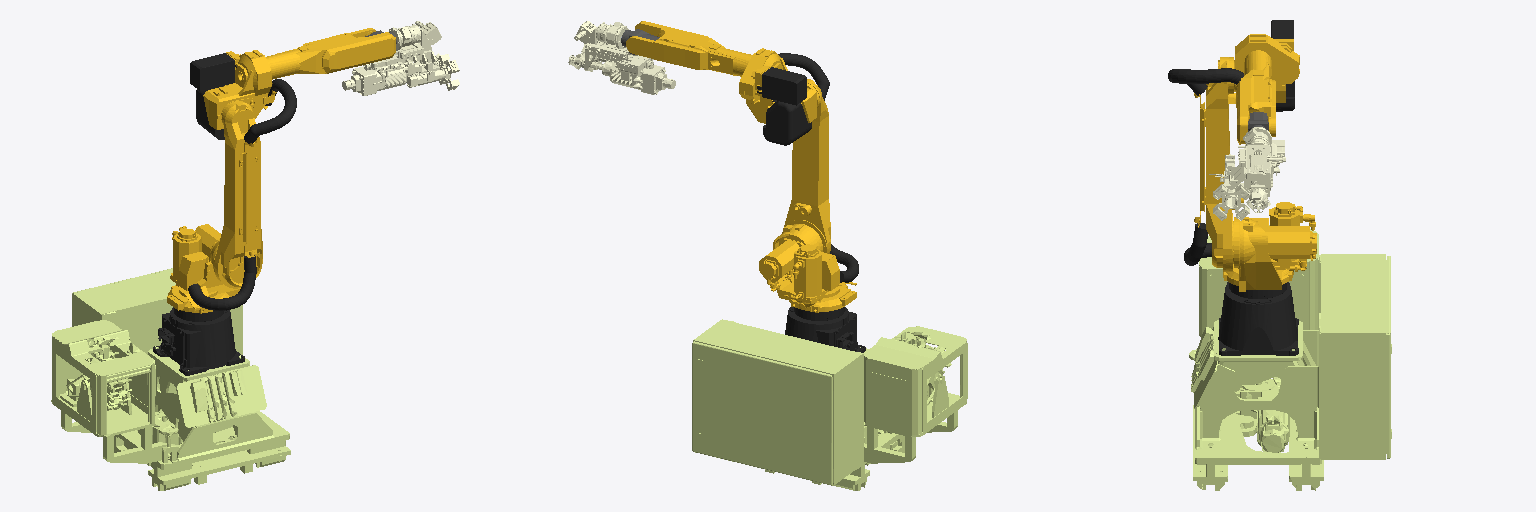
URDF robot description (fanuc_m20ia_35m):
<?xml version="1.0" ?>
<robot name="fanuc_m20ia_35m">
    <!--World link represents the world origin-->
    <link name="world" />
    <!--Sliding base-->
    <link name="slider">
        <visual>
            <origin xyz="0 -0.138929 -0.156011" rpy="3.14159265359 -1.57079632679 0" />
            <geometry>
                <mesh filename="package://acg_resources_fanuc_m20ia_35m_description/meshes/visual/slide.dae" />
            </geometry>
        </visual>
        <inertial>
            <inertia ixx="5.44696" ixy="0.41618" ixz="0.42316" iyy="4.52204" iyz="1.14567" izz="3.50858"/>
            <origin rpy="0.00000 0.00000 0.00000" xyz="0.38559 -0.12582 -0.14714"/>
            <mass value="40.00000"/>
        </inertial>
        <collision>
            <origin xyz="0 -0.138929 -0.156011" rpy="3.14159265359 -1.57079632679 0" />
            <geometry>
                <mesh filename="package://acg_resources_fanuc_m20ia_35m_description/meshes/collision/slide_alt.stl" />
            </geometry>
        </collision>
    </link>
    <joint name="fanuc_m20ia_35m_world_to_silder" type="prismatic">
        <origin xyz="0 0 0" rpy="3.14159265359 -1.57079632679 0" />
        <parent link="world" />
        <child link="slider" />
        <axis xyz="0 0 1" />
        <dynamics damping="12.6" friction="1.8"/>
        <limit effort="3500" velocity="9.6" lower="-2.1" upper="2.1" /><axis xyz="0 0 1" /> 
    </joint>
    <joint name="fanuc_m20ia_35m_slider_to_link_0" type="fixed">
        <origin xyz="0.555985 0 0" rpy="3.14159265359 -1.57079632679 0" />
        <parent link="slider" />
        <child link="fanuc_m20ia_35m_link_0" />
    </joint>
    <!--Fanuc M20IA/35M-->
    <link name="fanuc_m20ia_35m_link_0">
        <visual>
            <origin xyz="0 0 0" rpy="0 0 0" />
            <geometry>
                <mesh filename="package://acg_resources_fanuc_m20ia_35m_description/meshes/visual/link_0.dae" />
            </geometry>
        </visual>
        <inertial>
            <inertia ixx="0.81917" ixy="0.11076" ixz="-0.15612" iyy="1.46533" iyz="0.02762" izz="1.37957"/>
            <origin rpy="0.00000 0.00000 0.00000" xyz="-0.01251 0.00295 0.13601"/>
            <mass value="55.00000"/>
        </inertial>
        <collision>
            <origin xyz="0 0 0" rpy="0 0 0" />
            <geometry>
                <mesh filename="package://acg_resources_fanuc_m20ia_35m_description/meshes/collision/link_0.stl" />
            </geometry>
        </collision>
    </link>
    <link name="fanuc_m20ia_35m_link_1">
        <visual>
            <origin xyz="0 0 0" rpy="0 0 0" />
            <geometry>
                <mesh filename="package://acg_resources_fanuc_m20ia_35m_description/meshes/visual/link_1.dae" />
            </geometry>
        </visual>
        <inertial>
            <inertia ixx="1.94274" ixy="-0.00021" ixz="-0.20819" iyy="1.01606" iyz="-0.20086" izz="2.07922"/>
            <origin rpy="0.00000 0.00000 0.00000" xyz="0.05707 0.00452 0.44717"/>
            <mass value="76.00000"/>
        </inertial>
        <collision>
            <origin xyz="0 0 0" rpy="0 0 0" />
            <geometry>
                <mesh filename="package://acg_resources_fanuc_m20ia_35m_description/meshes/collision/link_1.stl" />
            </geometry>
        </collision>
    </link>
    <joint name="fanuc_m20ia_35m_joint_1" type="revolute">
        <origin xyz="0 0 0" rpy="0 0 0" />
        <parent link="fanuc_m20ia_35m_link_0" />
        <child link="fanuc_m20ia_35m_link_1" />
        <axis xyz="0 0 1" />
        <dynamics damping="7.11" friction="1.2"/>
        <limit effort="2500" velocity="3.14" lower="-3.228859" upper="3.228859" />
    </joint>
    <link name="fanuc_m20ia_35m_link_2">
        <visual>
            <origin xyz="-0.150 -0.525 0" rpy="-1.57079632679 0 0" />
            <geometry> <!--- -0.150 0 -0.525    x=-1.57079632679-->
                <mesh filename="package://acg_resources_fanuc_m20ia_35m_description/meshes/visual/link_2.dae" />
            </geometry>
        </visual>
        <inertial>
            <inertia ixx="2.43002" ixy="0.00148" ixz="0.00311" iyy="0.13838" iyz="-0.02449" izz="2.42037"/>
            <origin rpy="0.00000 0.00000 0.00000" xyz="0.00001 0.33455 0.17707"/>
            <mass value="31.90000"/>
        </inertial>
        <collision>
            <origin xyz="-0.150 -0.525 0" rpy="-1.57079632679 0 0" />
            <geometry>
                <mesh filename="package://acg_resources_fanuc_m20ia_35m_description/meshes/collision/link_2.stl" />
            </geometry>
        </collision>
    </link>
    <joint name="fanuc_m20ia_35m_joint_2" type="revolute">
        <origin xyz="0.150 0 0.525" rpy="1.57079632679 0 0" />
        <parent link="fanuc_m20ia_35m_link_1" />
        <child link="fanuc_m20ia_35m_link_2" />
        <axis xyz="0 0 -1" />
        <dynamics damping="7.11" friction="1.2"/>
        <limit effort="2500" velocity="3.14" lower="-1.745329" upper="2.792527" />
    </joint>
    <link name="fanuc_m20ia_35m_link_3">
        <visual>
            <origin xyz="-1.315 0.150 0" rpy="-1.57079632679 0 -1.57079632679" /> <!-- 1.57079632679 -1.57079632679 -->
            <geometry>
                <mesh filename="package://acg_resources_fanuc_m20ia_35m_description/meshes/visual/link_3.dae" />
            </geometry>
        </visual>
        <inertial>
            <inertia ixx="0.97807" ixy="0.09333" ixz="0.00172" iyy="1.00014" iyz="0.17372" izz="0.82790"/>
            <origin rpy="0.00000 0.00000 0.00000" xyz="0.05077 -0.05726 -0.02988"/>
            <mass value="52.00000"/>
        </inertial>
        <collision>
            <origin xyz="-1.315 0.150 0" rpy="-1.57079632679 0 -1.57079632679" /> 
            <geometry>
                <mesh filename="package://acg_resources_fanuc_m20ia_35m_description/meshes/collision/link_3.stl" />
            </geometry>
        </collision>
    </link>
    <joint name="fanuc_m20ia_35m_joint_3" type="revolute">
        <origin xyz="0 0.790 0" rpy="0 0 1.57079632679" />
        <parent link="fanuc_m20ia_35m_link_2" />
        <child link="fanuc_m20ia_35m_link_3" />
        <axis xyz="0 0 1" />
        <dynamics damping="4.778" friction="0.8"/>
        <limit effort="2000" velocity="3.49" lower="-3.228859" upper="4.766494" />
    </joint>
    <link name="fanuc_m20ia_35m_link_4">
        <visual>
            <origin xyz="-1.456 0 -0.150" rpy="3.14159265359 -1.57079632679 0" />
            <geometry>
                <mesh filename="package://acg_resources_fanuc_m20ia_35m_description/meshes/visual/link_4.dae" />
            </geometry>
        </visual>
        <inertial>
            <inertia ixx="1.14714" ixy="0.00333" ixz="0.01779" iyy="1.11650" iyz="-0.07292" izz="0.08602"/>
            <origin rpy="0.00000 0.00000 0.00000" xyz="0.00918 0.00056 0.55457"/>
            <mass value="27.40000"/>
        </inertial>
        <collision>
            <origin xyz="-1.456 0 -0.150" rpy="3.14159265359 -1.57079632679 0" />
            <geometry>
                <mesh filename="package://acg_resources_fanuc_m20ia_35m_description/meshes/collision/link_4.stl" />
            </geometry>
        </collision>
    </link>
    <joint name="fanuc_m20ia_35m_joint_4" type="revolute">
        <origin xyz="0.150 0 0" rpy="1.57079632679 0 0" />
        <parent link="fanuc_m20ia_35m_link_3" />
        <child link="fanuc_m20ia_35m_link_4" />
        <axis xyz="0 0 -1" />
        <dynamics damping="2.6696" friction="0.8"/>
        <limit effort="110" velocity="6.11" lower="-3.490659" upper="3.490659" />
    </joint>
    <link name="fanuc_m20ia_35m_link_5">
        <visual>
            <origin xyz="-1.465 1.010 0" rpy="-1.57079632679 0 -1.57079632679" />
            <geometry>
                <mesh filename="package://acg_resources_fanuc_m20ia_35m_description/meshes/visual/link_5.dae" />
            </geometry>
        </visual>
        <inertial>
            <inertia ixx="0.05943" ixy="0.00359" ixz="-0.00004" iyy="0.01101" iyz="0.00036" izz="0.06008"/>
            <origin rpy="0.00000 0.00000 0.00000" xyz="-0.00391 -0.00260 -0.00199"/>
            <mass value="9.40000"/>
        </inertial>
        <collision>
            <origin xyz="-1.465 1.010 0" rpy="-1.57079632679 0 -1.57079632679" />
            <geometry>
                <mesh filename="package://acg_resources_fanuc_m20ia_35m_description/meshes/collision/link_5.stl" />
            </geometry>
        </collision>
    </link>
    <joint name="fanuc_m20ia_35m_joint_5" type="revolute">
        <origin xyz="0 0 0.860" rpy="-1.57079632679 0 0" />
        <parent link="fanuc_m20ia_35m_link_4" />
        <child link="fanuc_m20ia_35m_link_5" />
        <dynamics damping="0.53169" friction="0.3"/>
        <axis xyz="0 0 1" />
        <limit effort="110" velocity="6.11" lower="-2.443461" upper="2.443461" />
    </joint>
    <link name="fanuc_m20ia_35m_link_6">
        <visual>
            <origin xyz="0 0 0.100" rpy="0 0 0" />
            <geometry>
                <mesh filename="package://acg_resources_fanuc_m20ia_35m_description/meshes/visual/link_6.dae" />
            </geometry>
        </visual>
        <inertial>
            <inertia ixx="0.00005" ixy="-0.00000" ixz="-0.00000" iyy="0.00005" iyz="0.00000" izz="0.00009"/>
            <origin rpy="0.00000 0.00000 0.00000" xyz="0.00000 0.00000 0.10000"/>
            <mass value="0.30000"/>
        </inertial>
        <collision>
            <origin xyz="0 0 0.100" rpy="0 0 0" />
            <geometry>
                <mesh filename="package://acg_resources_fanuc_m20ia_35m_description/meshes/collision/link_6.stl" />
            </geometry>
        </collision>
    </link>
    <joint name="fanuc_m20ia_35m_joint_6" type="revolute">
        <origin xyz="0 0 0" rpy="1.57079632679 0 0" />
        <parent link="fanuc_m20ia_35m_link_5" />
        <child link="fanuc_m20ia_35m_link_6" />
        <axis xyz="0 0 -1" />
        <dynamics damping="0.53169" friction="0.3"/>
        <limit effort="60" velocity="6.98" lower="-7.853982" upper="7.853982" />
    </joint>
    <link name="fanuc_m20ia_35m_flange">
    </link>
    <joint name="fanuc_m20ia_35m_joint_7" type="fixed">
        <origin xyz="0 0 0.100" rpy="0 0 0" />
        <parent link="fanuc_m20ia_35m_link_6" />
        <child link="fanuc_m20ia_35m_flange" />
    </joint>
    <!--End effector-->
    <link name="fanuc_m20ia_35m_drilling_tool">
        <visual>
            <origin xyz="-1.26508 -0.01635 -1.447666" rpy="-1.5446 0 -1.5429" /> 
            <!--The mesh is not aligned with its frame. This rotation was calculated by means of rotation matrices.-->
            <geometry>
                <mesh filename="package://acg_resources_fanuc_m20ia_35m_description/meshes/visual/drilling_tool.dae" />
            </geometry>
        </visual>
        <inertial>
            <inertia ixx="0.27100" ixy="0.01440" ixz="-0.01671" iyy="0.28542" iyz="-0.04531" izz="0.10477"/>
            <origin rpy="0.00000 0.00000 0.00000" xyz="0.06258 0.01824 -0.25703"/>
            <mass value="15.00000"/>
        </inertial>
        <collision>
            <origin xyz="-1.26508 -0.01635 -1.447666" rpy="-1.5446 0 -1.5429" />
            <!--The mesh is not aligned with its frame. This rotation was calculated by means of rotation matrices.-->
            <geometry>
                <mesh filename="package://acg_resources_fanuc_m20ia_35m_description/meshes/collision/drilling_tool_alt.stl" />
            </geometry>
        </collision>
    </link>
    <link name="fanuc_m20ia_35m_inspection_tool">
        <!--The mesh of this tool is already part of the drilling tool mesh
        the inertial tag is has been inserted on the drilling_tool-->
    </link>
    <joint name="fanuc_m20ia_35m_flange_to_drilling_tool" type="fixed">
        <origin xyz="-0.18992 0 0.29979" rpy="0 0 0" />
        <parent link="fanuc_m20ia_35m_flange" />
        <child link="fanuc_m20ia_35m_drilling_tool" />
    </joint>
    <joint name="fanuc_m20ia_35m_flange_to_inspection_tool" type="fixed">
        <origin xyz="-0.19047 0.1145 0.26656" rpy="0 0 0" />
        <parent link="fanuc_m20ia_35m_flange" />
        <child link="fanuc_m20ia_35m_inspection_tool" />
    </joint>
</robot>

--- Facts derived from the render (not from the file) ---
Views: 3 orthographic renders of the robot side by side, from view 1: azimuth 30°, elevation 25°; view 2: azimuth 150°, elevation 25°; view 3: azimuth 270°, elevation 25°.
Model fanuc_m20ia_35m with 12 links and 11 joints (6 revolute, 1 prismatic, 4 fixed), rooted at world, posed every joint at zero.
Links seen in each view (by area): view 1: slider, fanuc_m20ia_35m_link_2, fanuc_m20ia_35m_link_3, fanuc_m20ia_35m_link_1, fanuc_m20ia_35m_drilling_tool, fanuc_m20ia_35m_link_0, fanuc_m20ia_35m_link_4; view 2: slider, fanuc_m20ia_35m_link_1, fanuc_m20ia_35m_link_3, fanuc_m20ia_35m_link_2, fanuc_m20ia_35m_drilling_tool, fanuc_m20ia_35m_link_4, fanuc_m20ia_35m_link_0; view 3: slider, fanuc_m20ia_35m_link_1, fanuc_m20ia_35m_link_2, fanuc_m20ia_35m_link_0, fanuc_m20ia_35m_drilling_tool, fanuc_m20ia_35m_link_3, fanuc_m20ia_35m_link_4.
Boxes of the visible links, x1=… form: slider: x1=51, y1=268, x2=290, y2=490; fanuc_m20ia_35m_link_2: x1=214, y1=101, x2=262, y2=288; fanuc_m20ia_35m_link_3: x1=190, y1=50, x2=296, y2=139; fanuc_m20ia_35m_link_1: x1=167, y1=224, x2=256, y2=313; fanuc_m20ia_35m_drilling_tool: x1=342, y1=21, x2=459, y2=95; fanuc_m20ia_35m_link_0: x1=153, y1=307, x2=244, y2=375; fanuc_m20ia_35m_link_4: x1=266, y1=28, x2=395, y2=79; slider: x1=692, y1=319, x2=967, y2=490; fanuc_m20ia_35m_link_1: x1=759, y1=224, x2=858, y2=312; fanuc_m20ia_35m_link_3: x1=739, y1=48, x2=828, y2=145; fanuc_m20ia_35m_link_2: x1=783, y1=79, x2=830, y2=253; fanuc_m20ia_35m_drilling_tool: x1=568, y1=21, x2=675, y2=94; fanuc_m20ia_35m_link_4: x1=626, y1=21, x2=751, y2=76; fanuc_m20ia_35m_link_0: x1=785, y1=307, x2=865, y2=352; slider: x1=1189, y1=225, x2=1391, y2=490; fanuc_m20ia_35m_link_1: x1=1184, y1=202, x2=1316, y2=291; fanuc_m20ia_35m_link_2: x1=1187, y1=57, x2=1243, y2=272; fanuc_m20ia_35m_link_0: x1=1218, y1=282, x2=1298, y2=355; fanuc_m20ia_35m_drilling_tool: x1=1209, y1=127, x2=1285, y2=220; fanuc_m20ia_35m_link_3: x1=1168, y1=20, x2=1299, y2=111; fanuc_m20ia_35m_link_4: x1=1236, y1=50, x2=1275, y2=144.
Bounding box of the posed robot: 2.12 × 0.9643 × 2.13 m (x, y, z).
Meshes: 9 distinct files referenced, 9 mesh visuals loaded (9 Collada DAE).